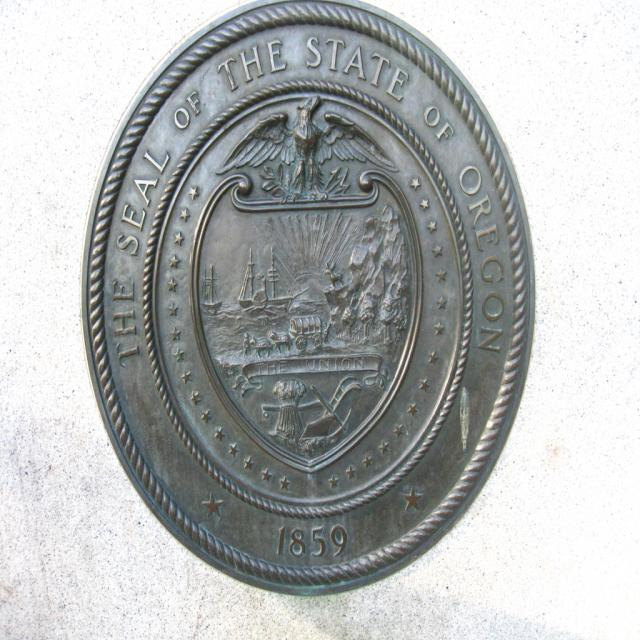Coin: (82, 0, 536, 592)
